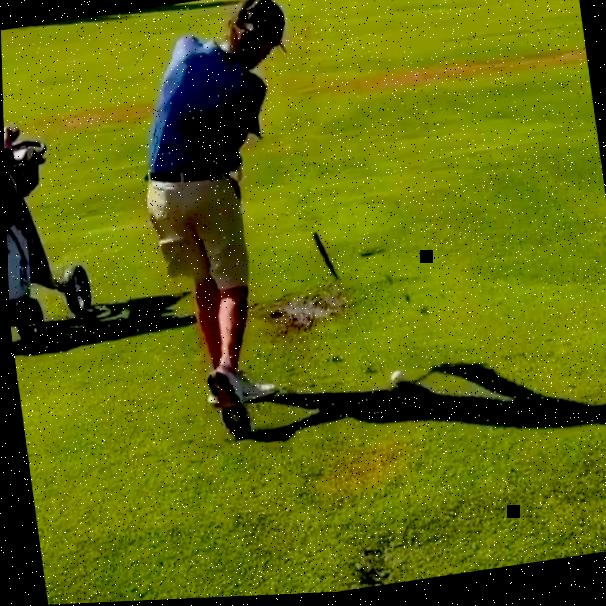ClubHead: (388, 388, 408, 401)
GolfBall: (388, 373, 401, 386)
